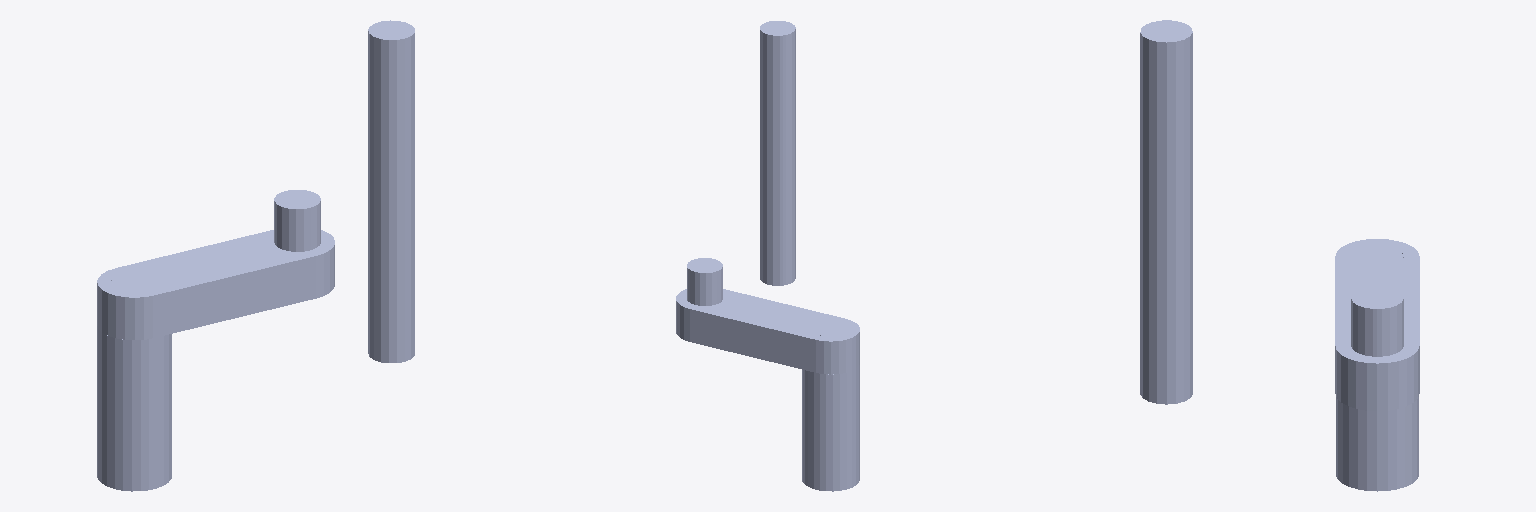
The robot description file, URDF, robot "scara_parcial":
<?xml version="1.0" encoding="utf-8"?>
<!-- This URDF was automatically created by SolidWorks to URDF Exporter! Originally created by Stephen Brawner (brawner@gmail.com) 
     Commit Version: 1.6.0-4-g7f85cfe  Build Version: 1.6.7995.38578
     For more information, please see http://wiki.ros.org/sw_urdf_exporter -->
<robot
  name="scara_parcial">
  <link
    name="base_link">
    <inertial>
      <origin
        xyz="-1.73472347597681E-18 0 0.0998780760555324"
        rpy="0 0 0" />
      <mass
        value="0.988879119570459" />
      <inertia
        ixx="0.00386390013512193"
        ixy="-6.15155978133186E-38"
        ixz="1.46264242236905E-19"
        iyy="0.00386390013512193"
        iyz="-8.4410901568214E-36"
        izz="0.000743243095074335" />
    </inertial>
    <visual>
      <origin
        xyz="0 0 0"
        rpy="0 0 0" />
      <geometry>
        <mesh
          filename="package://scara_parcial/meshes/base_link.STL" />
      </geometry>
      <material
        name="">
        <color
          rgba="0.792156862745098 0.819607843137255 0.933333333333333 1" />
      </material>
    </visual>
    <collision>
      <origin
        xyz="0 0 0"
        rpy="0 0 0" />
      <geometry>
        <mesh
          filename="package://scara_parcial/meshes/base_link.STL" />
      </geometry>
    </collision>
  </link>
  <link
    name="rot1">
    <inertial>
      <origin
        xyz="0.118676345594585 1.21430643318376E-17 0.0296690863986464"
        rpy="0 0 0" />
      <mass
        value="1.05132741228718" />
      <inertia
        ixx="0.000968741777605735"
        ixy="1.41325121968422E-19"
        ixz="-0.000399196555067386"
        iyy="0.00620864004558683"
        iyz="8.53392848411022E-20"
        izz="0.00629429353114417" />
    </inertial>
    <visual>
      <origin
        xyz="0 0 0"
        rpy="0 0 0" />
      <geometry>
        <mesh
          filename="package://scara_parcial/meshes/rot1.STL" />
      </geometry>
      <material
        name="">
        <color
          rgba="0.792156862745098 0.819607843137255 0.933333333333333 1" />
      </material>
    </visual>
    <collision>
      <origin
        xyz="0 0 0"
        rpy="0 0 0" />
      <geometry>
        <mesh
          filename="package://scara_parcial/meshes/rot1.STL" />
      </geometry>
    </collision>
  </link>
  <joint
    name="1"
    type="continuous">
    <origin
      xyz="0 0 0.1772"
      rpy="0 0 0" />
    <parent
      link="base_link" />
    <child
      link="rot1" />
    <axis
      xyz="0 0 1" />
  </joint>
  <link
    name="rot2">
    <inertial>
      <origin
        xyz="0.1 0 0.0750000000000004"
        rpy="0 0 0" />
      <mass
        value="0.854977871437822" />
      <inertia
        ixx="0.000674638405706707"
        ixy="6.48045540533855E-20"
        ixz="1.13555967627051E-19"
        iyy="0.00431775045341826"
        iyz="6.60322314929738E-21"
        izz="0.0046361480793592" />
    </inertial>
    <visual>
      <origin
        xyz="0 0 0"
        rpy="0 0 0" />
      <geometry>
        <mesh
          filename="package://scara_parcial/meshes/rot2.STL" />
      </geometry>
      <material
        name="">
        <color
          rgba="0.792156862745098 0.819607843137255 0.933333333333333 1" />
      </material>
    </visual>
    <collision>
      <origin
        xyz="0 0 0"
        rpy="0 0 0" />
      <geometry>
        <mesh
          filename="package://scara_parcial/meshes/rot2.STL" />
      </geometry>
    </collision>
  </link>
  <joint
    name="2"
    type="revolute">
    <origin
      xyz="0.2 0 0"
      rpy="0 0 -1.57079632679489" />
    <parent
      link="rot1" />
    <child
      link="rot2" />
    <axis
      xyz="0 0 1" />
    <limit
      lower="-1.1"
      upper="4.3"
      effort="0"
      velocity="0" />
  </joint>
  <link
    name="prisma1">
    <inertial>
      <origin
        xyz="0 -2.77555756156289E-17 -0.1895"
        rpy="0 0 0" />
      <mass
        value="0.744164759819082" />
      <inertia
        ixx="0.00902398993248613"
        ixy="-2.53580488584256E-20"
        ixz="-3.11783790133065E-19"
        iyy="0.00902398993248613"
        iyz="4.28033982679163E-20"
        izz="0.000232551487443463" />
    </inertial>
    <visual>
      <origin
        xyz="0 0 0"
        rpy="0 0 0" />
      <geometry>
        <mesh
          filename="package://scara_parcial/meshes/prisma1.STL" />
      </geometry>
      <material
        name="">
        <color
          rgba="0.792156862745098 0.819607843137255 0.933333333333333 1" />
      </material>
    </visual>
    <collision>
      <origin
        xyz="0 0 0"
        rpy="0 0 0" />
      <geometry>
        <mesh
          filename="package://scara_parcial/meshes/prisma1.STL" />
      </geometry>
    </collision>
  </link>
  <joint
    name="3"
    type="prismatic">
    <origin
      xyz="0.2 0 0"
      rpy="-3.1416 0 0" />
    <parent
      link="rot2" />
    <child
      link="prisma1" />
    <axis
      xyz="0 0 1" />
    <limit
      lower="0"
      upper="0.2"
      effort="0"
      velocity="0" />
  </joint>
  <link
    name="rot3">
    <inertial>
      <origin
        xyz="5.34014416020412E-10 -5.35736927043118E-10 -0.0349809453938201"
        rpy="0 0 0" />
      <mass
        value="0.182222784010828" />
      <inertia
        ixx="0.000161921495281095"
        ixy="1.35115873626282E-06"
        ixz="2.85630487972558E-12"
        iyy="0.000161912661018423"
        iyz="-2.8655180163919E-12"
        izz="8.98947732639393E-05" />
    </inertial>
    <visual>
      <origin
        xyz="0 0 0"
        rpy="0 0 0" />
      <geometry>
        <mesh
          filename="package://scara_parcial/meshes/rot3.STL" />
      </geometry>
      <material
        name="">
        <color
          rgba="0.792156862745098 0.819607843137255 0.933333333333333 1" />
      </material>
    </visual>
    <collision>
      <origin
        xyz="0 0 0"
        rpy="0 0 0" />
      <geometry>
        <mesh
          filename="package://scara_parcial/meshes/rot3.STL" />
      </geometry>
    </collision>
  </link>
  <joint
    name="4"
    type="continuous">
    <origin
      xyz="0 0 0"
      rpy="0 0 0" />
    <parent
      link="prisma1" />
    <child
      link="rot3" />
    <axis
      xyz="0 0 1" />
  </joint>
</robot>

--- Facts derived from the render (not from the file) ---
3 views of the same robot in one strip: view 1: azimuth 30°, elevation 25°; view 2: azimuth 150°, elevation 25°; view 3: azimuth 270°, elevation 25° (orthographic).
Robot: scara_parcial — 5 links, 4 joints (1 revolute, 2 continuous, 1 prismatic); root link base_link; default pose: all joints at 0.
Links seen in each view (by area): view 1: rot1, prisma1, base_link; view 2: rot1, prisma1, base_link; view 3: prisma1, rot1, base_link.
Boxes of the visible links, box(x1,y1,x2,y2) form: rot1: box(97, 190, 334, 339); prisma1: box(368, 20, 414, 362); base_link: box(97, 272, 171, 491); rot1: box(676, 258, 859, 374); prisma1: box(760, 21, 795, 285); base_link: box(802, 322, 859, 491); prisma1: box(1140, 20, 1192, 404); rot1: box(1335, 239, 1419, 410); base_link: box(1336, 246, 1418, 491).
Size in the robot's own frame: 0.28 by 0.2649 by 0.5562 metres.
3 mesh visuals loaded from 5 distinct referenced files (3 binary STL); not drawn: 2 (reference not matched to a file when rendering).
